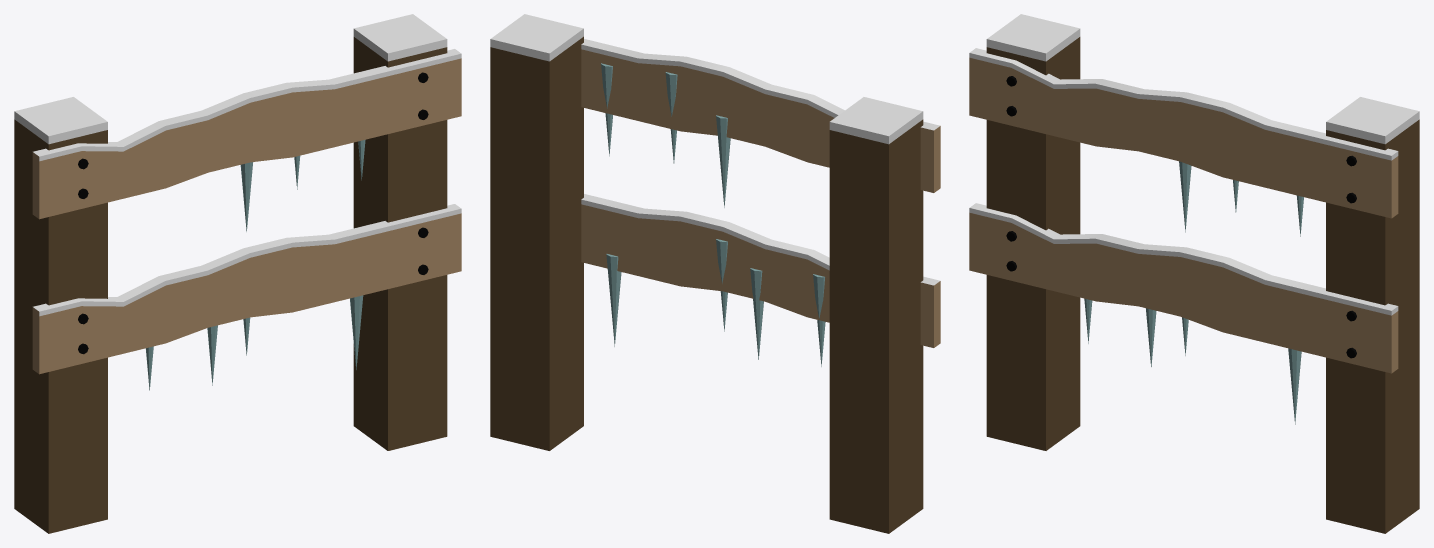
Rendered from snow_fence.fbx.
3 renders of one model, left to right at view 1: azimuth 30°, elevation 25°; view 2: azimuth 150°, elevation 25°; view 3: azimuth 330°, elevation 25°, orthographic.
Visible parts, largest first — view 1: pCube23; view 2: pCube23; view 3: pCube23.
Part boxes in pixels (x1,y1,x2,y2): pCube23: [14, 14, 461, 533]; pCube23: [490, 14, 940, 533]; pCube23: [969, 14, 1419, 533].
Size of the model in its own units: 1.26 by 1.13 by 0.2055.
